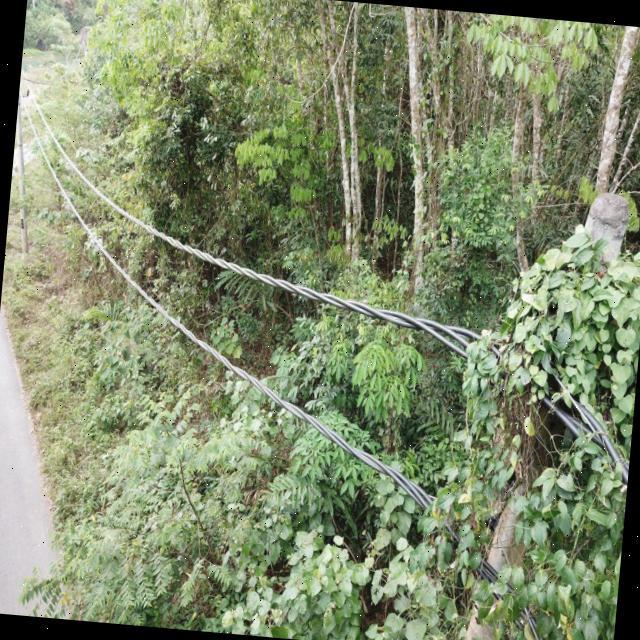critical vegetation: (426, 163, 640, 640)
